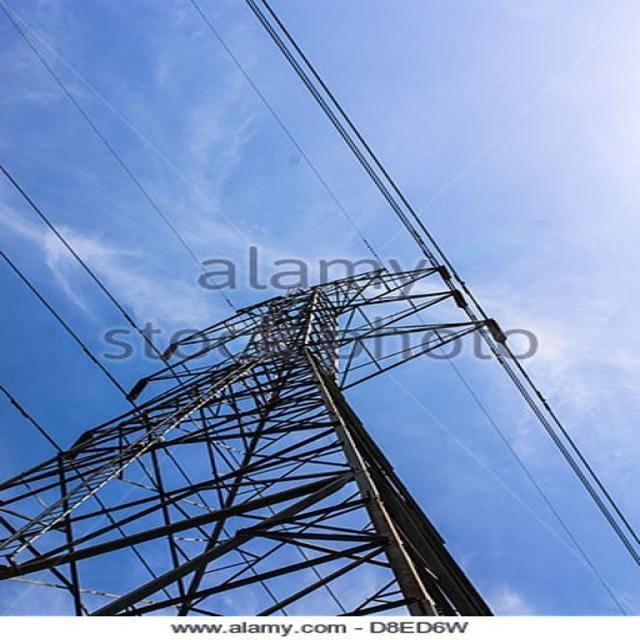non-critical vegetation: (22, 261, 520, 613)
